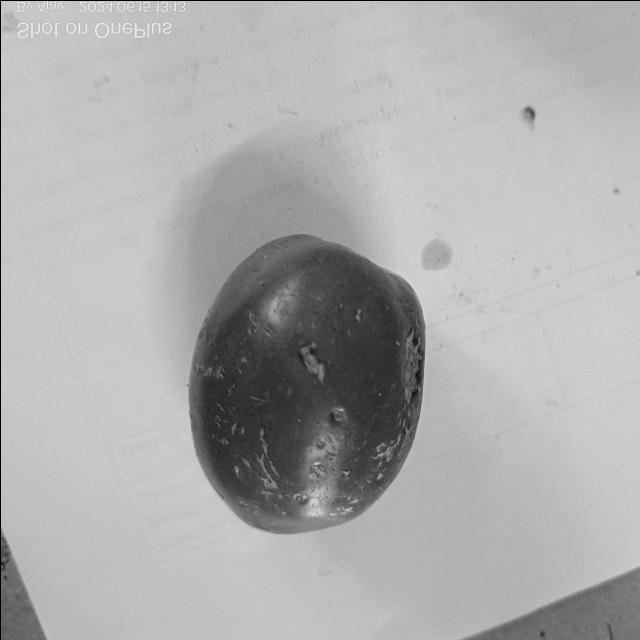Bacterial_Spot: (296, 340, 328, 384), (328, 407, 348, 426), (350, 308, 366, 326)
